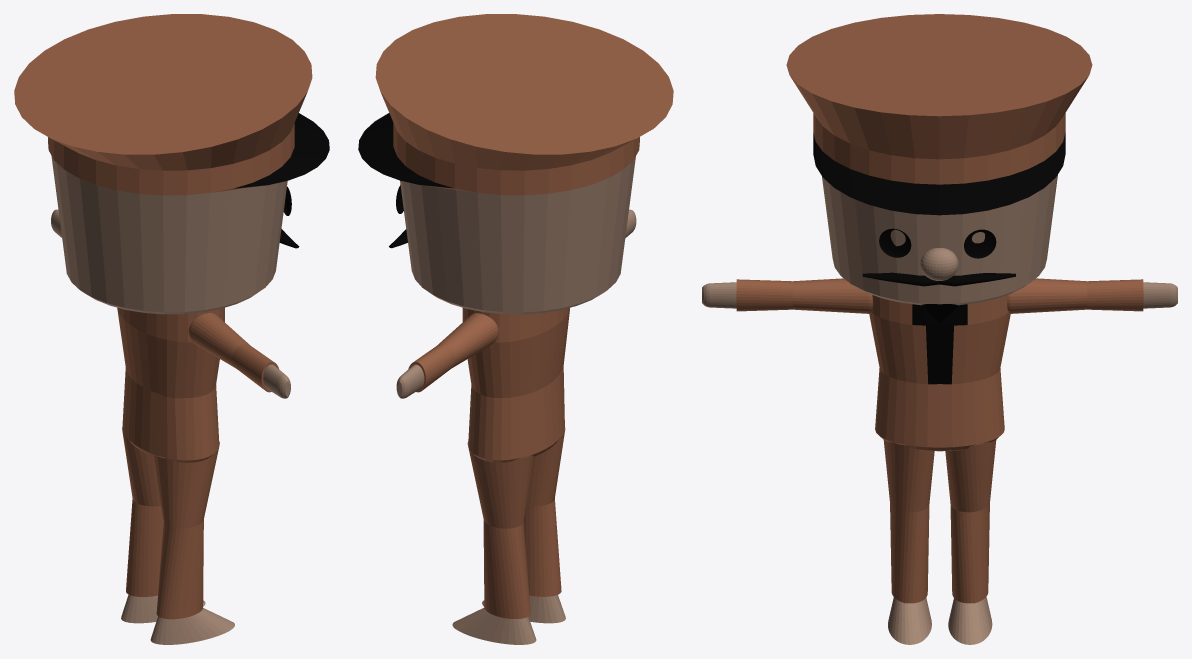
File: peach_goatee.fbx
3 renders of one model, left to right at view 1: azimuth 30°, elevation 25°; view 2: azimuth 150°, elevation 25°; view 3: azimuth 270°, elevation 25°, orthographic. The views are drawn at different scales.
Visible parts, largest first — view 1: Hat.001, Headd.002, Cylinder.049, Cylinder.052, Cylinder.053, Cylinder.050, Cylinder.047, Cylinder.038, Cylinder.055; view 2: Hat.001, Headd.002, Cylinder.049, Cylinder.053, Cylinder.052, Cylinder.051, Cylinder.038, Cylinder.047, Cylinder.056; view 3: Hat.001, Cylinder.049, Headd.002, Cylinder.053, Cylinder.052, Cylinder.051, Cylinder.050, Cylinder.038, Cylinder.047, Cylinder.014, Eyes.007, Sphere.002 (+2 smaller).
Part boxes in pixels (<box>): Hat.001: <box>14,14,329,195</box>; Headd.002: <box>51,155,287,314</box>; Cylinder.049: <box>117,307,224,462</box>; Cylinder.052: <box>152,442,219,619</box>; Cylinder.053: <box>122,426,163,596</box>; Cylinder.050: <box>188,313,278,392</box>; Cylinder.047: <box>150,608,234,644</box>; Cylinder.038: <box>121,594,205,623</box>; Cylinder.055: <box>263,364,290,398</box>; Hat.001: <box>358,14,673,195</box>; Headd.002: <box>400,156,635,314</box>; Cylinder.049: <box>462,308,569,462</box>; Cylinder.053: <box>467,441,534,618</box>; Cylinder.052: <box>523,427,565,596</box>; Cylinder.051: <box>408,313,498,392</box>; Cylinder.038: <box>452,608,536,644</box>; Cylinder.047: <box>482,595,565,623</box>; Cylinder.056: <box>396,364,424,398</box>; Hat.001: <box>786,14,1092,215</box>; Cylinder.049: <box>869,295,1010,451</box>; Headd.002: <box>822,175,1057,305</box>; Cylinder.053: <box>945,440,996,603</box>; Cylinder.052: <box>883,440,934,603</box>; Cylinder.051: <box>1007,278,1143,313</box>; Cylinder.050: <box>736,278,872,313</box>; Cylinder.038: <box>948,597,992,644</box>; Cylinder.047: <box>888,597,931,644</box>; Cylinder.014: <box>862,272,1015,286</box>; Eyes.007: <box>879,228,996,258</box>; Sphere.002: <box>920,248,958,280</box>.
Bounding box in the file's own units: 239 × 453 × 346.
